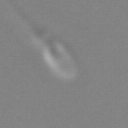normal: (7, 1, 49, 44)
